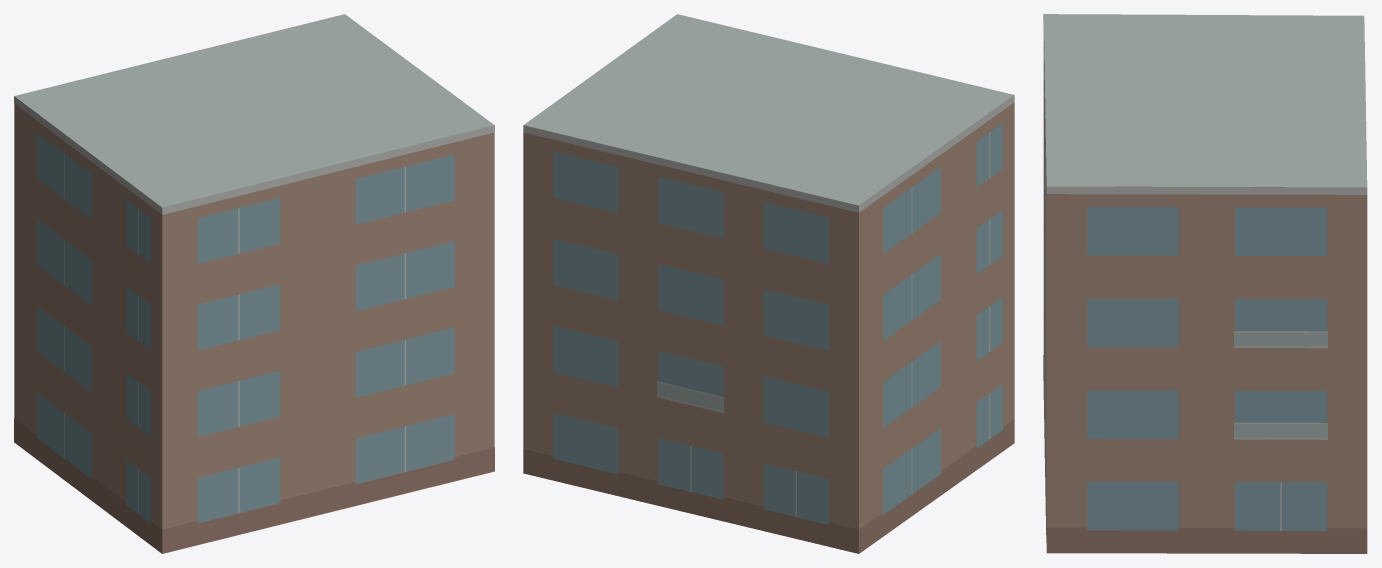
The model's file is survey-upis-33043884.glb.
3 views of the same model, side by side, from view 1: azimuth 30°, elevation 25°; view 2: azimuth 150°, elevation 25°; view 3: azimuth 270°, elevation 25° (orthographic). The views are drawn at different scales.
Visible parts, largest first — view 1: survey-upis-33043884.tmp; view 2: survey-upis-33043884.tmp; view 3: survey-upis-33043884.tmp.
Part boxes in pixels (bbox=[...]): survey-upis-33043884.tmp: bbox=[14, 14, 494, 553]; survey-upis-33043884.tmp: bbox=[523, 14, 1014, 553]; survey-upis-33043884.tmp: bbox=[1043, 14, 1367, 553].
Size of the model in its own units: 12 by 11.8 by 9.45.
